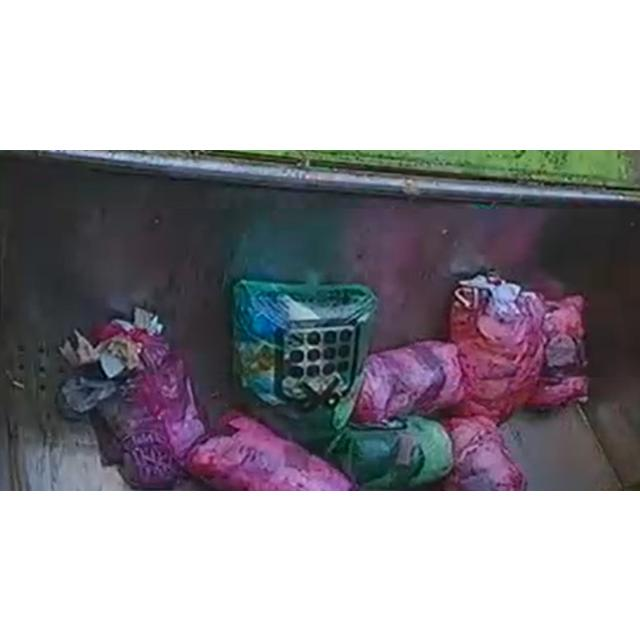general_trashbag: (234, 279, 375, 453)
other_trashbag: (56, 306, 205, 488), (450, 274, 544, 422), (189, 410, 354, 490), (328, 415, 452, 490), (352, 340, 464, 423), (528, 294, 589, 406), (444, 415, 526, 490)
